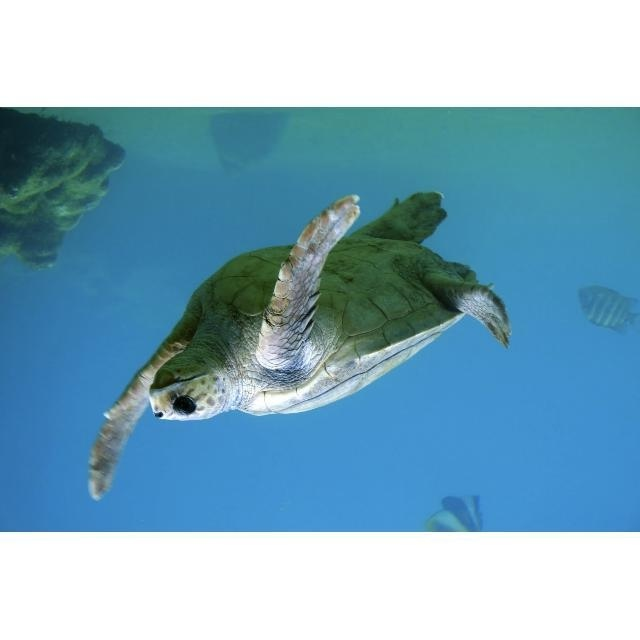turtle: (89, 188, 512, 502)
